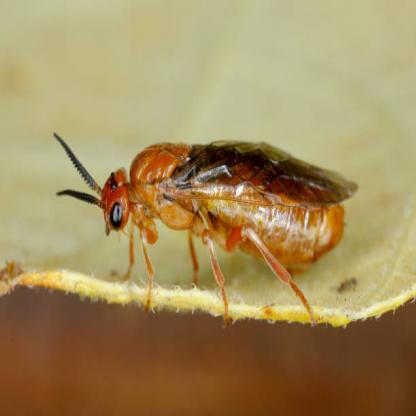sawfly: (49, 123, 364, 340)
